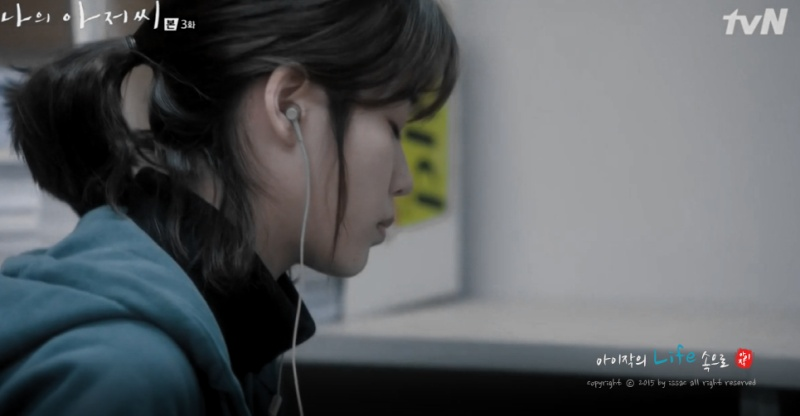earphone: (264, 61, 312, 147)
